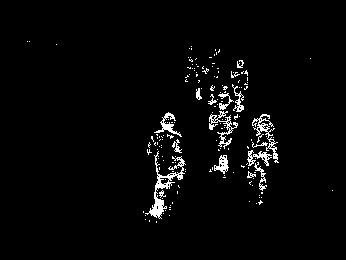person: (146, 112, 186, 218), (246, 112, 280, 205), (209, 94, 238, 173), (230, 57, 249, 112)
